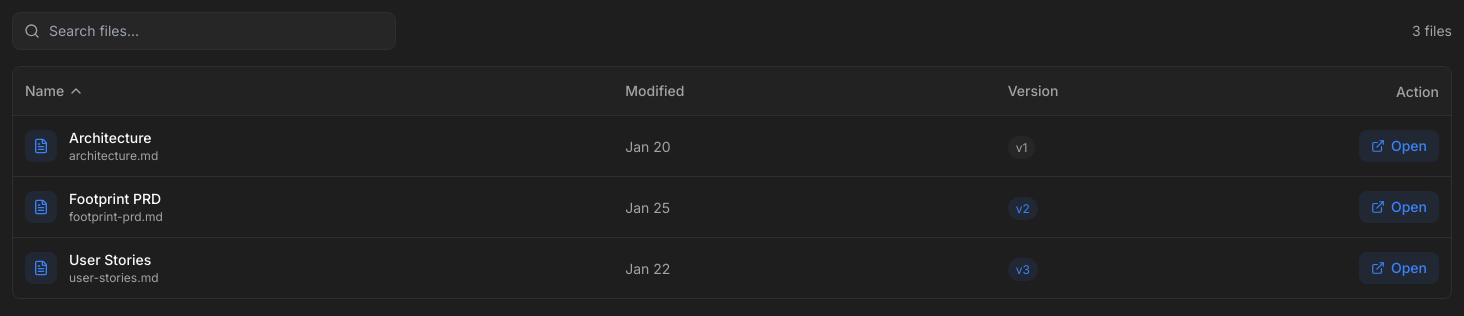
Test: FileListView › Search › should filter files by search term
The width and height of the screenshot is (1464, 316).
Type "PRD" into the field with placeholder "Search files...". click: (204, 31)
box: [12,12,396,50]
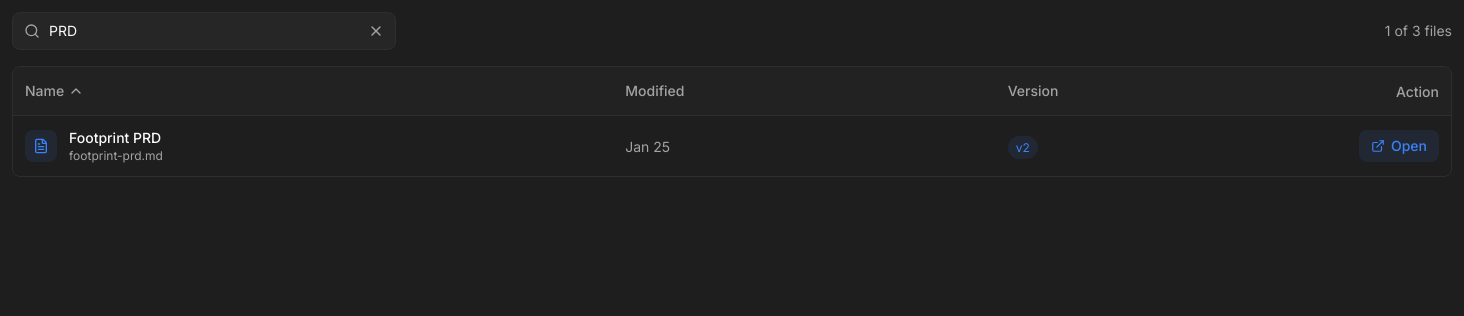
Expected: the text "Footprint PRD" is shown, [69,128,163,148]
Expected: the text "Architecture" is gone
Expected: the text "User Stories" is gone
